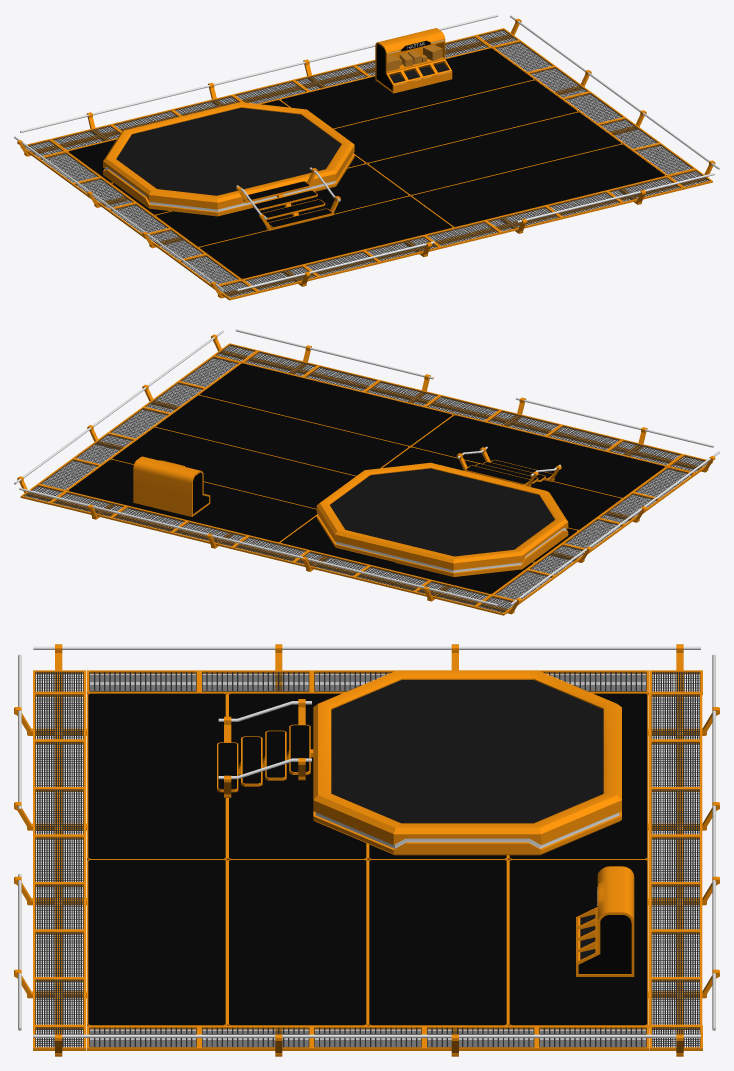
The model's file is lobby.fbx.
The picture shows the model from 3 angles, top to bottom: view 1: azimuth 30°, elevation 25°; view 2: azimuth 150°, elevation 25°; view 3: azimuth 270°, elevation 25°; orthographic projection. The views are drawn at different scales.
Visible parts, largest first — view 1: Cube.003, Cube.009, Cube.005, Cube.002, Cube.004, Cube.007, Cube.008, Cube.010, Cube, Cube.006, Cube.011; view 2: Cube.003, Cube.009, Cube.005, Cube.002, Cube.004, Cube.007, Cube.008, Cube.010, Cube.006, Cube; view 3: Cube.003, Cube.009, Cube.005, Cube.004, Cube.002, Cube.007, Cube.008, Cube.010, Cube, Cube.006.
Boxes of the visible parts, x1=… form: Cube.003: x1=68, y1=48, x2=665, y2=279; Cube.009: x1=103, y1=102, x2=354, y2=216; Cube.005: x1=37, y1=40, x2=695, y2=287; Cube.002: x1=242, y1=176, x2=683, y2=293; Cube.004: x1=50, y1=35, x2=491, y2=151; Cube.007: x1=14, y1=15, x2=719, y2=298; Cube.008: x1=20, y1=14, x2=714, y2=291; Cube.010: x1=375, y1=28, x2=452, y2=93; Cube: x1=236, y1=167, x2=340, y2=230; Cube.006: x1=20, y1=28, x2=712, y2=300; Cube.011: x1=387, y1=44, x2=442, y2=71; Cube.003: x1=67, y1=363, x2=665, y2=594; Cube.009: x1=316, y1=462, x2=568, y2=576; Cube.005: x1=37, y1=355, x2=695, y2=602; Cube.002: x1=242, y1=350, x2=683, y2=466; Cube.004: x1=49, y1=491, x2=491, y2=608; Cube.007: x1=14, y1=330, x2=719, y2=614; Cube.008: x1=19, y1=329, x2=713, y2=606; Cube.010: x1=133, y1=456, x2=210, y2=516; Cube.006: x1=20, y1=343, x2=712, y2=615; Cube: x1=456, y1=446, x2=561, y2=486; Cube.003: x1=87, y1=693, x2=648, y2=1025; Cube.009: x1=313, y1=671, x2=621, y2=855; Cube.005: x1=87, y1=670, x2=649, y2=1050; Cube.004: x1=649, y1=693, x2=702, y2=1027; Cube.002: x1=33, y1=693, x2=86, y2=1025; Cube.007: x1=33, y1=644, x2=700, y2=1056; Cube.008: x1=14, y1=654, x2=719, y2=1030; Cube.010: x1=576, y1=866, x2=634, y2=976; Cube: x1=217, y1=699, x2=313, y2=797; Cube.006: x1=33, y1=670, x2=702, y2=1050.
Bounding box in the file's own units: 5788 × 490 × 4394.
